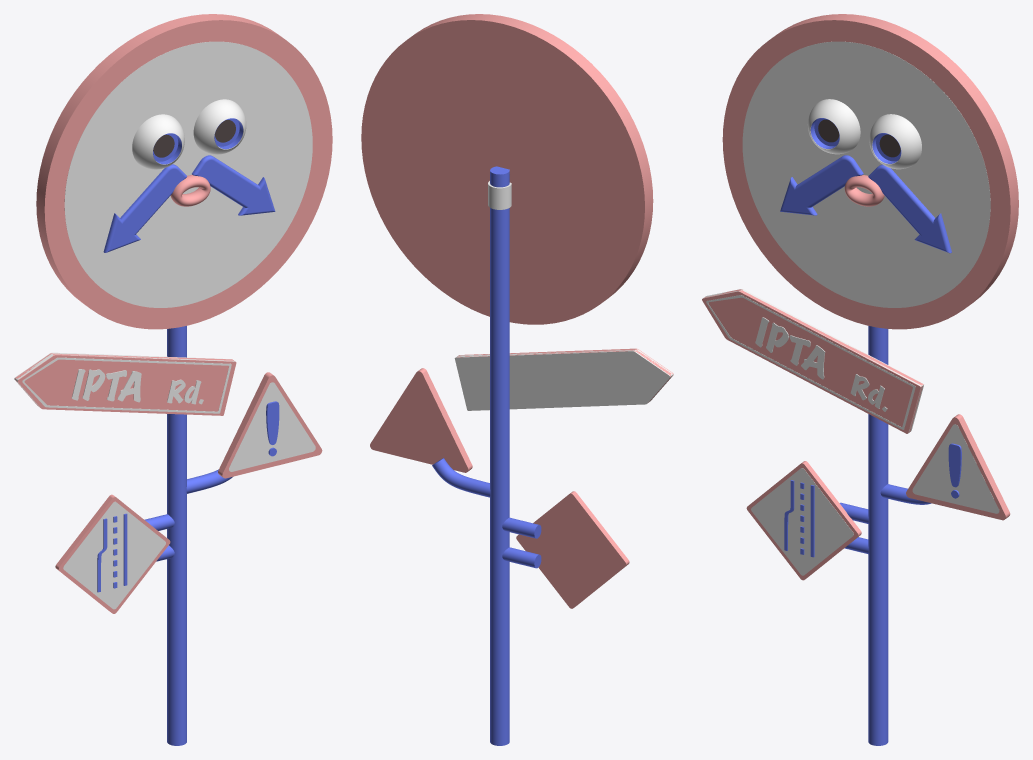
File: street_sign.gltf
The picture shows the model from 3 angles, left to right: view 1: azimuth 30°, elevation 25°; view 2: azimuth 150°, elevation 25°; view 3: azimuth 330°, elevation 25°; orthographic projection.
Visible parts, largest first — view 1: 主體 01 (1), 主體 01, 主體 03 (1), 主體 02, 主體 07*9 (1), 主體 10 (1), 主體 32, 主體 32 (1), 主體 10, object 1, object 2, 主體 07*9 (+4 smaller); view 2: 主體 01, 主體 02, 主體 03, 主體 07*9, 主體 10, 主體 05, 主體 03 (1), 主體 04, 主體 05 (2), 主體 05 (1); view 3: 主體 01 (1), 主體 01, 主體 03 (1), 主體 02, 主體 07*9 (1), 主體 10 (1), 主體 32 (1), 主體 32, 主體 10, object 1, object 2, 主體 07*9 (+3 smaller).
Boxes of the visible parts, x1=… form: 主體 01 (1): x1=64, y1=41, x2=312, y2=307; 主體 01: x1=36, y1=14, x2=332, y2=329; 主體 03 (1): x1=15, y1=353, x2=236, y2=415; 主體 02: x1=167, y1=326, x2=186, y2=745; 主體 07*9 (1): x1=63, y1=501, x2=165, y2=609; 主體 10 (1): x1=229, y1=382, x2=315, y2=471; 主體 32: x1=103, y1=164, x2=186, y2=252; 主體 32 (1): x1=192, y1=155, x2=275, y2=215; 主體 10: x1=218, y1=372, x2=322, y2=478; object 1: x1=193, y1=99, x2=246, y2=154; object 2: x1=132, y1=114, x2=184, y2=169; 主體 07*9: x1=55, y1=494, x2=170, y2=613; 主體 01: x1=361, y1=14, x2=653, y2=324; 主體 02: x1=490, y1=166, x2=509, y2=745; 主體 03: x1=454, y1=349, x2=673, y2=410; 主體 07*9: x1=516, y1=491, x2=629, y2=608; 主體 10: x1=370, y1=368, x2=472, y2=472; 主體 05: x1=432, y1=458, x2=490, y2=497; 主體 03 (1): x1=457, y1=348, x2=673, y2=402; 主體 04: x1=488, y1=181, x2=511, y2=209; 主體 05 (2): x1=502, y1=547, x2=541, y2=568; 主體 05 (1): x1=502, y1=517, x2=541, y2=538; 主體 01 (1): x1=742, y1=41, x2=990, y2=307; 主體 01: x1=722, y1=14, x2=1018, y2=329; 主體 03 (1): x1=702, y1=289, x2=923, y2=433; 主體 02: x1=868, y1=326, x2=888, y2=745; 主體 07*9 (1): x1=751, y1=468, x2=853, y2=575; 主體 10 (1): x1=912, y1=424, x2=999, y2=513; 主體 32 (1): x1=868, y1=164, x2=951, y2=253; 主體 32: x1=780, y1=155, x2=863, y2=215; 主體 10: x1=906, y1=414, x2=1010, y2=520; object 1: x1=869, y1=114, x2=921, y2=169; object 2: x1=807, y1=99, x2=860, y2=154; 主體 07*9: x1=746, y1=461, x2=861, y2=580.
Size of the model in its own units: 2.25 by 5 by 0.3476.
